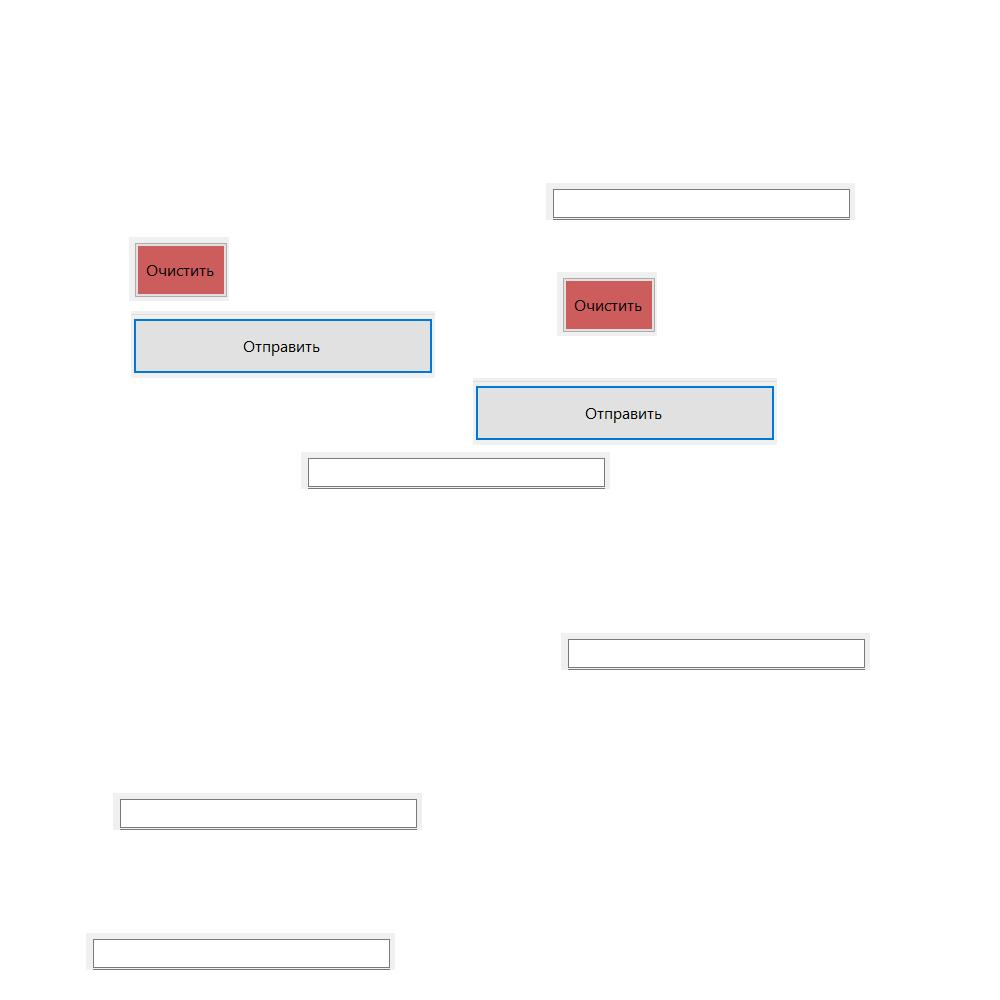Button: (473, 378, 777, 445), (131, 311, 435, 378), (557, 272, 657, 336), (129, 237, 229, 301)
EditText-: (86, 933, 395, 970), (546, 183, 855, 220), (113, 793, 422, 830), (561, 633, 870, 670), (301, 452, 610, 489)
